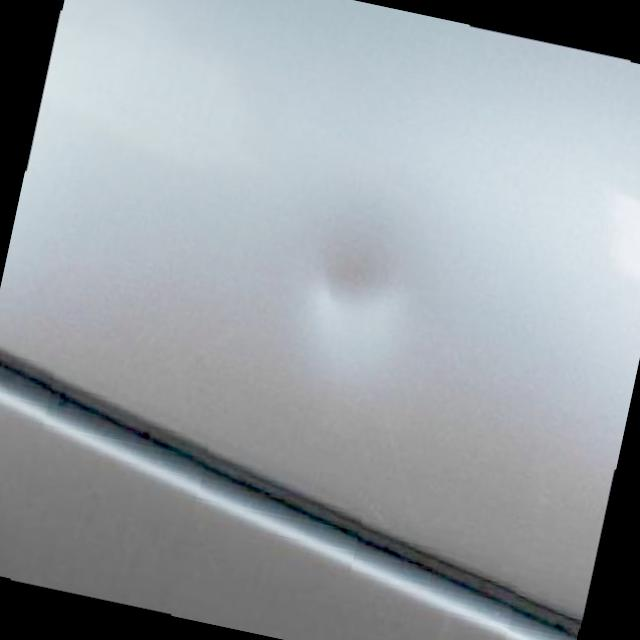dent: (284, 179, 456, 344)
